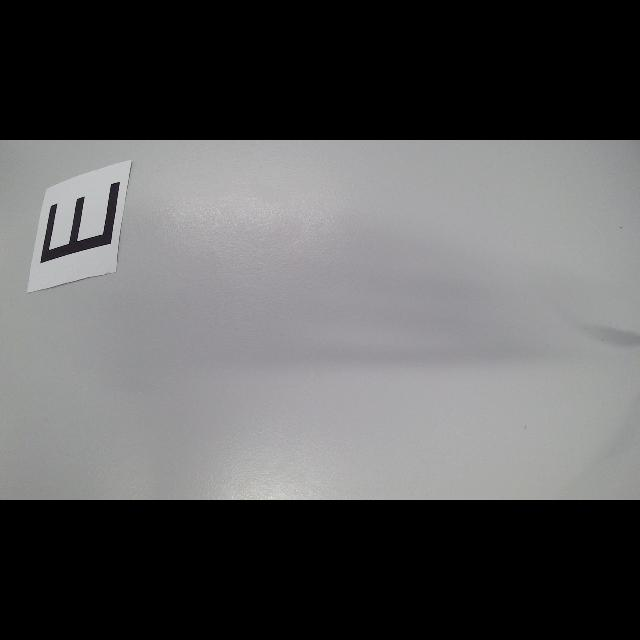FAKE: (40, 180, 120, 264)
